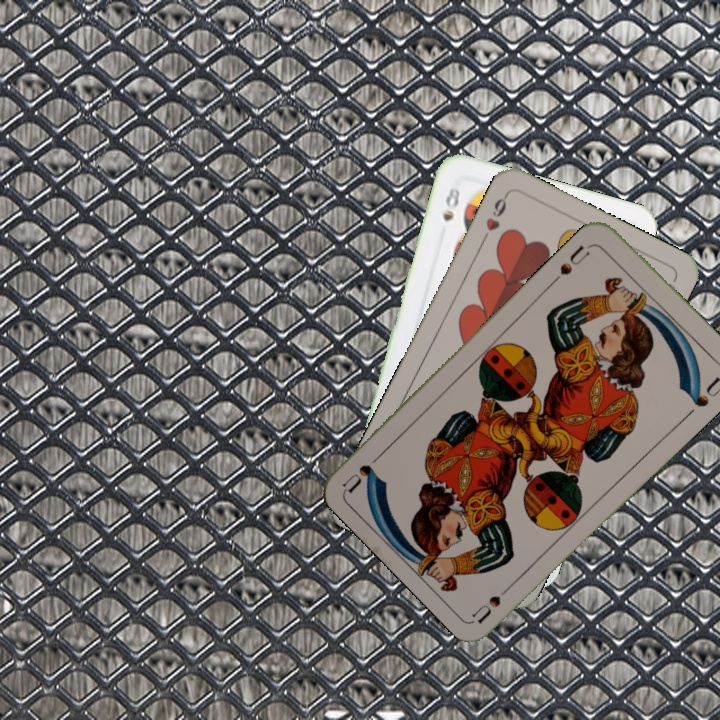H9: (478, 190, 511, 245)
S8: (439, 182, 463, 224)
SU: (469, 576, 519, 625), (556, 239, 597, 278)
